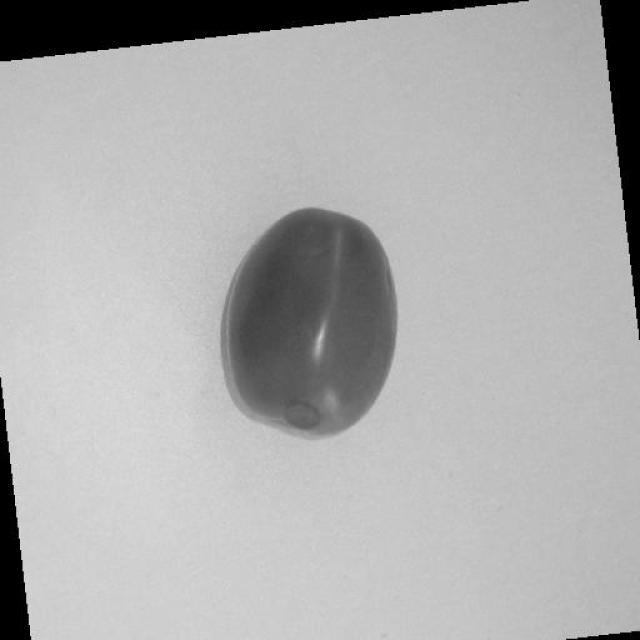Stale_tomato: (234, 192, 402, 462)
